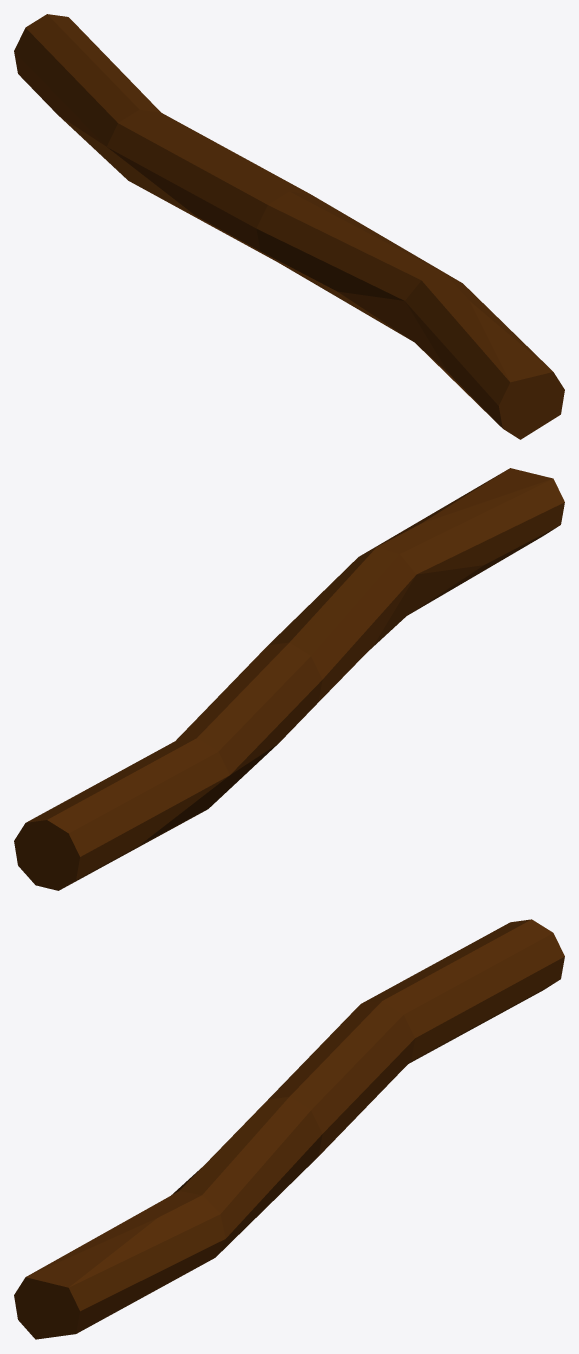
Rendered from Stick.fbx.
The picture shows the model from 3 angles, top to bottom: view 1: azimuth 30°, elevation 25°; view 2: azimuth 150°, elevation 25°; view 3: azimuth 330°, elevation 25°; orthographic projection.
Visible parts, largest first — view 1: Stick; view 2: Stick; view 3: Stick.
Part boxes in pixels (x1=…): Stick: x1=14, y1=14, x2=564, y2=439; Stick: x1=14, y1=468, x2=564, y2=890; Stick: x1=14, y1=919, x2=564, y2=1339.
Size of the model in its own units: 14.18 by 7.99 by 100.
